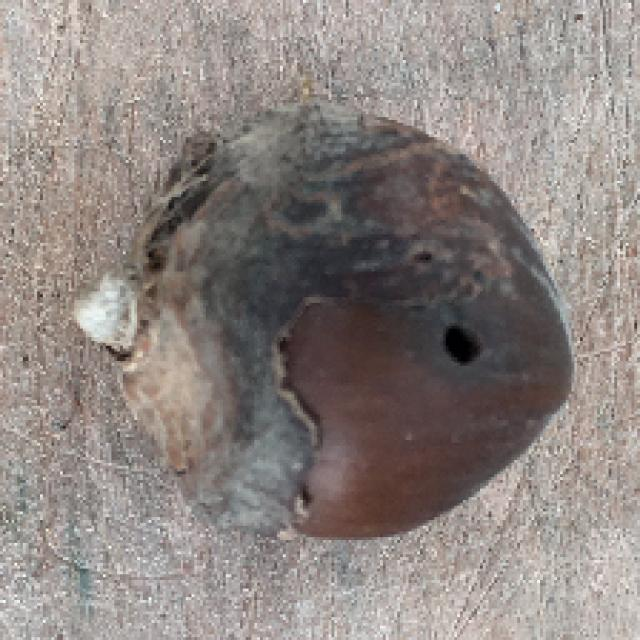damagedHazelnut: (92, 106, 582, 554)
